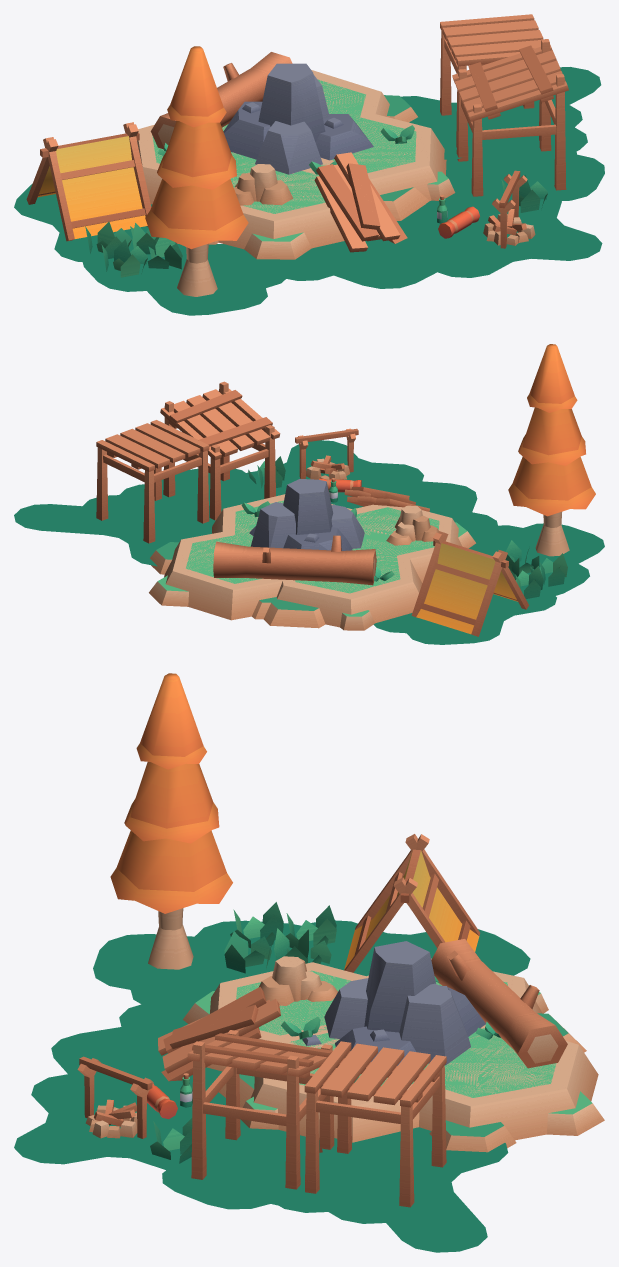
The picture shows the model from 3 angles, top to bottom: view 1: azimuth 30°, elevation 25°; view 2: azimuth 150°, elevation 25°; view 3: azimuth 270°, elevation 25°; orthographic projection. The views are drawn at different scales.
Visible parts, largest first — view 1: tree-autumn, rock-b, tent-canvas, rock_platform_1, rock_platform_2, large_grass_patch.001, large_grass_patch, large_grass_patch.002, small_grass_patch.001, Group, resource-planks, large_grass_patch.003 (+12 smaller); view 2: tree-autumn, rock_platform_1, rock_platform_2, large_grass_patch.002, tent-canvas, rock-b, tree-log, Group, large_grass_patch.001, structure-floor, Group.001, small_grass_patch.001 (+10 smaller); view 3: tree-autumn, rock_platform_2, large_grass_patch.002, rock-b, small_grass_patch.001, large_grass_patch.001, large_grass_patch, structure-roof, tree-log, tent-canvas, large_grass_patch.003, Group.001 (+10 smaller).
Boxes of the visible parts, <box> form: tree-autumn: <box>145,46,248,296</box>; rock-b: <box>223,63,373,174</box>; tent-canvas: <box>26,122,151,241</box>; rock_platform_1: <box>137,124,429,259</box>; rock_platform_2: <box>302,70,455,200</box>; large_grass_patch.001: <box>82,226,343,315</box>; large_grass_patch: <box>238,204,458,288</box>; large_grass_patch.002: <box>401,67,601,167</box>; small_grass_patch.001: <box>429,199,602,277</box>; Group: <box>452,44,568,121</box>; resource-planks: <box>314,152,407,252</box>; large_grass_patch.003: <box>426,151,604,208</box>; tree-autumn: <box>508,344,595,556</box>; rock_platform_1: <box>252,504,475,630</box>; rock_platform_2: <box>149,494,351,628</box>; large_grass_patch.002: <box>14,484,215,566</box>; tent-canvas: <box>411,531,529,636</box>; rock-b: <box>249,479,364,550</box>; tree-log: <box>213,535,376,585</box>; Group: <box>160,388,280,460</box>; large_grass_patch.001: <box>458,523,604,600</box>; structure-floor: <box>96,447,209,543</box>; Group.001: <box>96,420,209,471</box>; small_grass_patch.001: <box>246,440,423,503</box>; tree-autumn: <box>110,673,232,969</box>; rock_platform_2: <box>241,1013,604,1152</box>; large_grass_patch.002: <box>252,1127,508,1252</box>; rock-b: <box>302,941,485,1065</box>; small_grass_patch.001: <box>14,1074,209,1170</box>; large_grass_patch.001: <box>93,920,361,1035</box>; large_grass_patch: <box>51,995,225,1120</box>; structure-roof: <box>191,1030,334,1189</box>; tree-log: <box>431,939,567,1068</box>; tent-canvas: <box>344,834,480,972</box>; large_grass_patch.003: <box>162,1116,319,1209</box>; Group.001: <box>304,1041,446,1107</box>.
Bounding box in the file's own units: 3.57 × 1.45 × 2.64.
18 materials, 18 textured.
